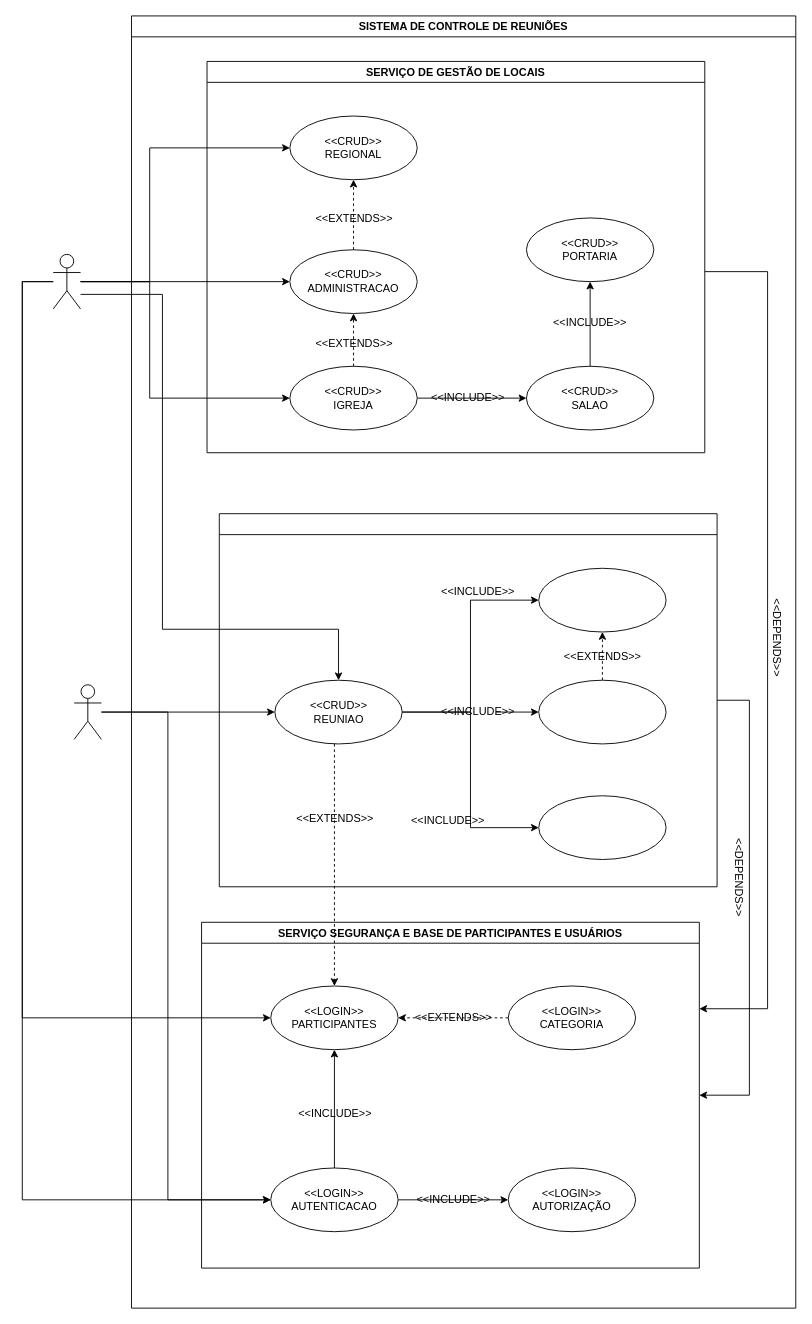
Image size: 812x1324. Some labels were removed from this diagram. The box of each missing label's shape, as (x1, y1, x2, y2) in pixels:
<<CRUD>> AGENDAR REUNIAO: (538, 567, 666, 632)
ADM: (52, 253, 81, 309)
COLABORADOR: (73, 684, 101, 739)
GERAR RELATORIO: (538, 795, 666, 859)
GESTAO REUNIAO: (538, 679, 666, 744)
SERVIÇO DE REUNIÃO: (218, 513, 717, 887)
